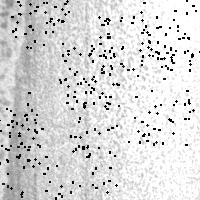pitted_surface: (35, 1, 200, 200), (59, 47, 118, 105), (70, 96, 128, 155), (91, 16, 148, 75), (139, 0, 195, 58), (134, 90, 192, 144), (11, 0, 68, 54), (0, 137, 49, 196), (55, 153, 115, 200), (156, 19, 200, 78), (0, 108, 41, 165), (0, 91, 34, 146)
